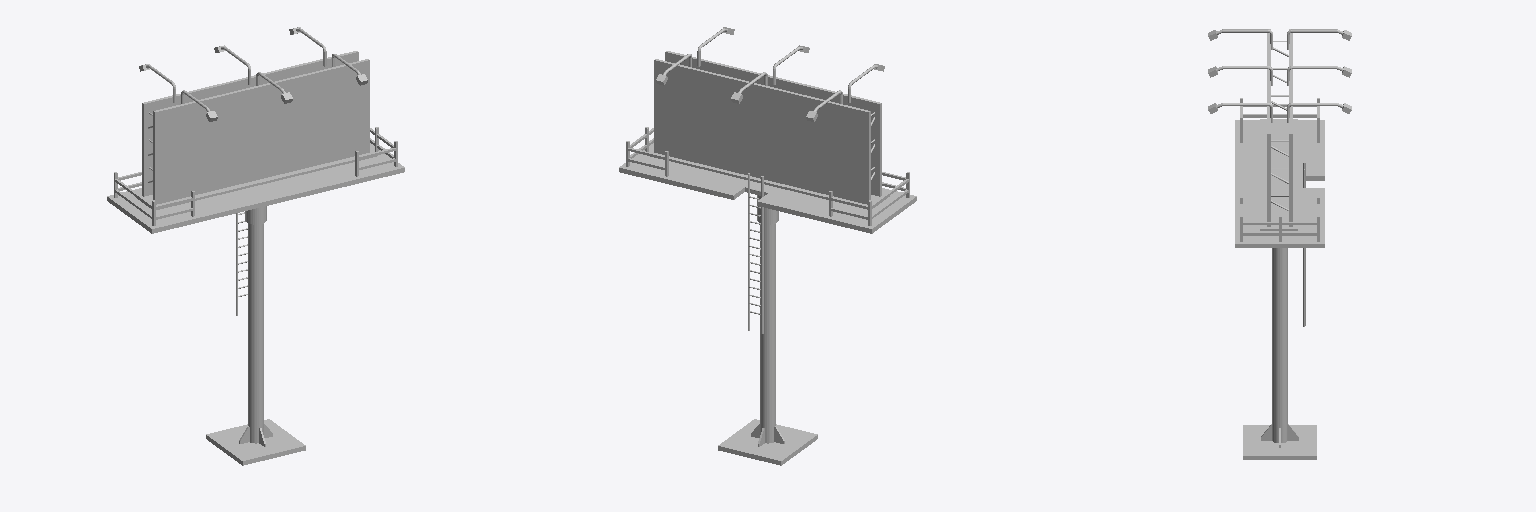
The model's file is billboard.obj.
3 renders of one model, left to right at view 1: azimuth 30°, elevation 25°; view 2: azimuth 150°, elevation 25°; view 3: azimuth 270°, elevation 25°, orthographic.
Parts seen in each view (by area): view 1: shield_low, base_low, pillar_low, light_support_low, fence_low; view 2: shield_low, base_low, pillar_low, light_support_low, stairs_low, fence_low; view 3: base_low, pillar_low, shield_low, light_support_low, fence2_low.
Boxes of the visible parts, box(x1,y1,x2,y2) form: shield_low: box(142, 51, 369, 204); base_low: box(107, 143, 404, 465); pillar_low: box(245, 206, 266, 443); light_support_low: box(146, 28, 360, 111); fence_low: box(118, 148, 395, 219); shield_low: box(654, 51, 881, 204); base_low: box(619, 143, 916, 465); pillar_low: box(757, 195, 778, 443); light_support_low: box(663, 28, 877, 111); stairs_low: box(748, 173, 763, 333); fence_low: box(628, 148, 905, 219); base_low: box(1235, 119, 1324, 459); pillar_low: box(1272, 248, 1287, 442); shield_low: box(1267, 29, 1292, 226); light_support_low: box(1216, 29, 1343, 122); fence2_low: box(1243, 104, 1316, 235).
Size of the model in its own units: 3.39 by 4.83 by 1.67.